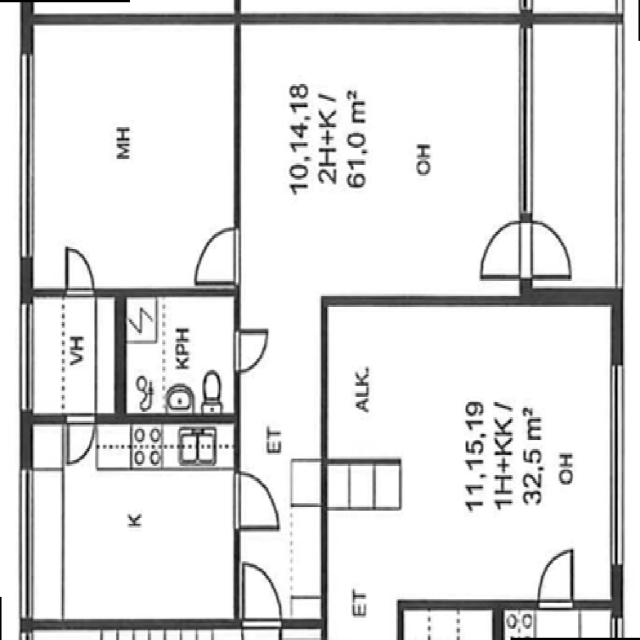door: (515, 213, 578, 280), (472, 214, 534, 282), (238, 557, 288, 640), (188, 218, 244, 284), (229, 466, 281, 532), (532, 542, 580, 611), (58, 240, 103, 303), (229, 325, 271, 377), (64, 412, 98, 468)
window: (603, 356, 637, 590), (11, 44, 42, 272), (510, 22, 542, 222), (16, 462, 36, 623), (16, 295, 37, 416)
zone: (255, 18, 526, 302), (364, 299, 616, 601), (26, 18, 237, 293), (29, 418, 243, 626), (524, 9, 622, 288), (122, 288, 238, 421), (24, 288, 120, 416), (498, 606, 617, 640), (398, 604, 498, 640)
